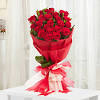rose: (33, 11, 69, 45)
